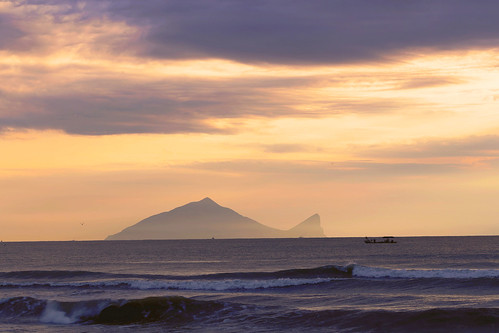turtleIsland: (102, 197, 327, 238)
